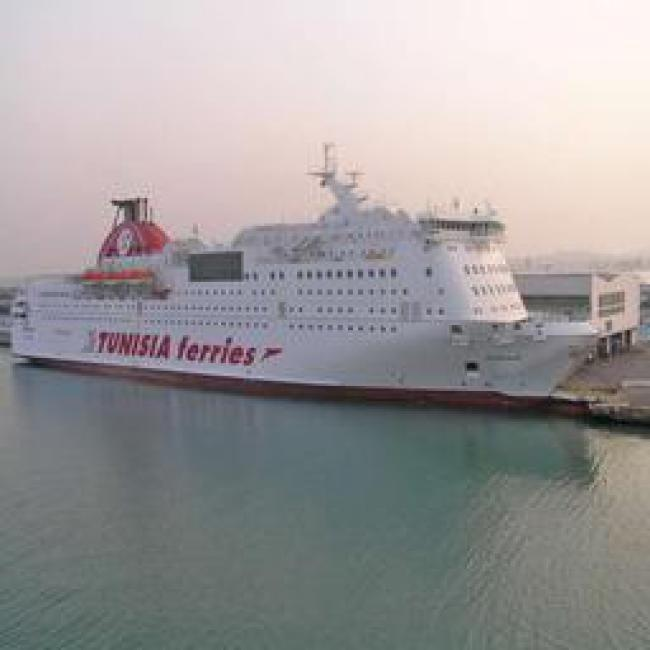Ship: (21, 212, 575, 413)
